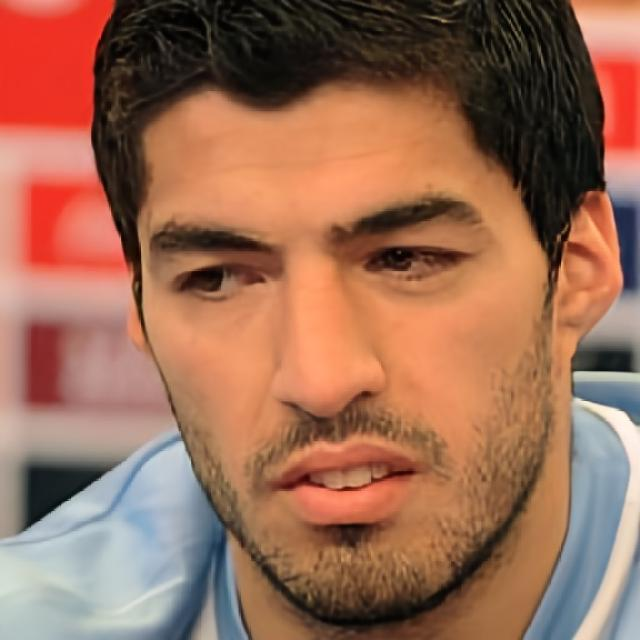disgust: (135, 55, 553, 626)
